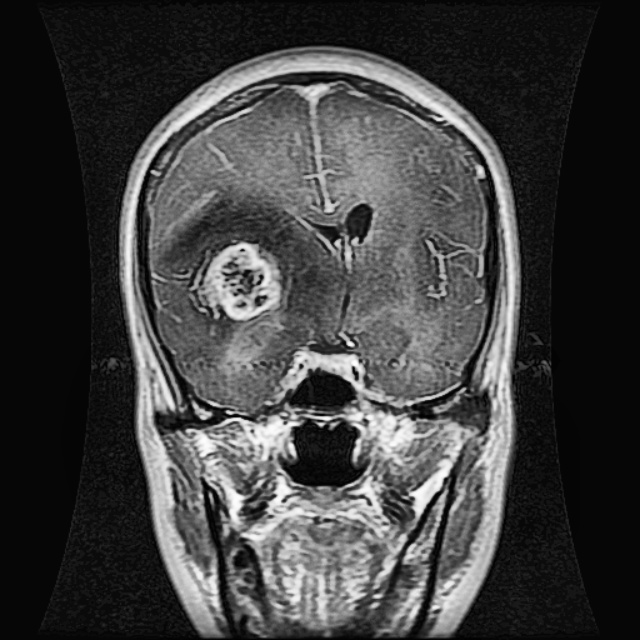Meningioma: (189, 237, 289, 355)
